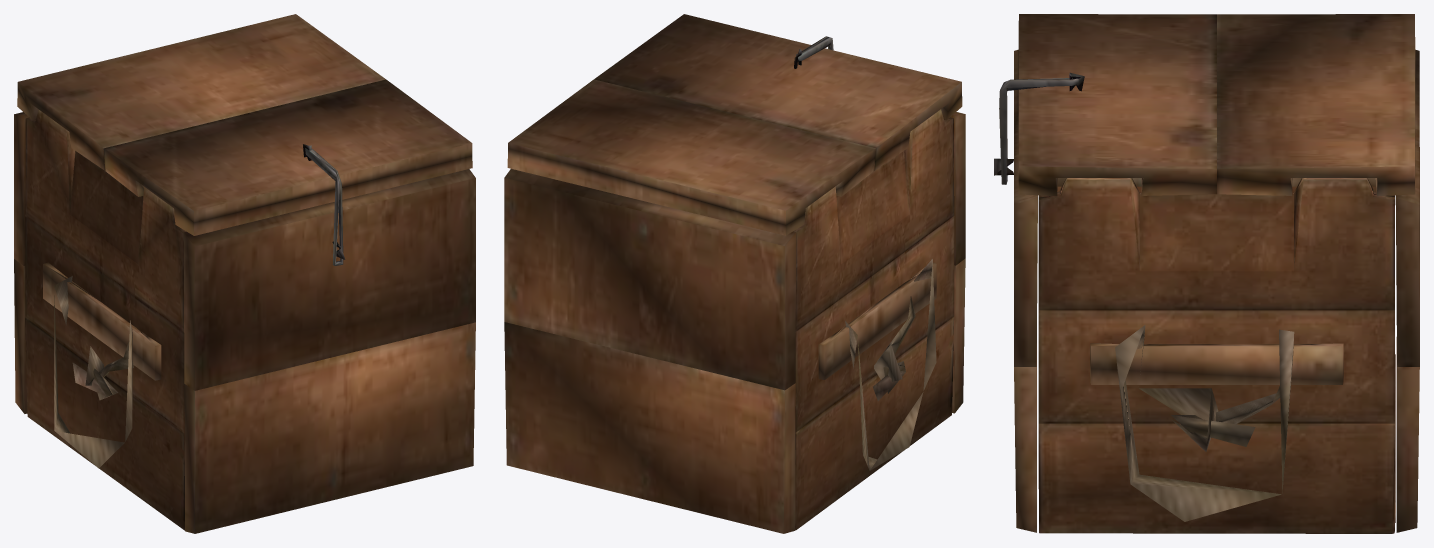
The model's file is crate.glb.
The picture shows the model from 3 angles, left to right: view 1: azimuth 30°, elevation 25°; view 2: azimuth 150°, elevation 25°; view 3: azimuth 270°, elevation 25°; orthographic projection. The views are drawn at different scales.
Parts seen in each view (by area): view 1: wooden_crate_01_lid; view 2: wooden_crate_01_lid; view 3: wooden_crate_01_lid.
Boxes of the visible parts, bbox=[...] form: wooden_crate_01_lid: bbox=[14, 14, 475, 533]; wooden_crate_01_lid: bbox=[504, 14, 965, 533]; wooden_crate_01_lid: bbox=[994, 14, 1419, 533].
Bounding box in the file's own units: 1 × 1 × 1.
Materials: 1 (1 with a texture image).
